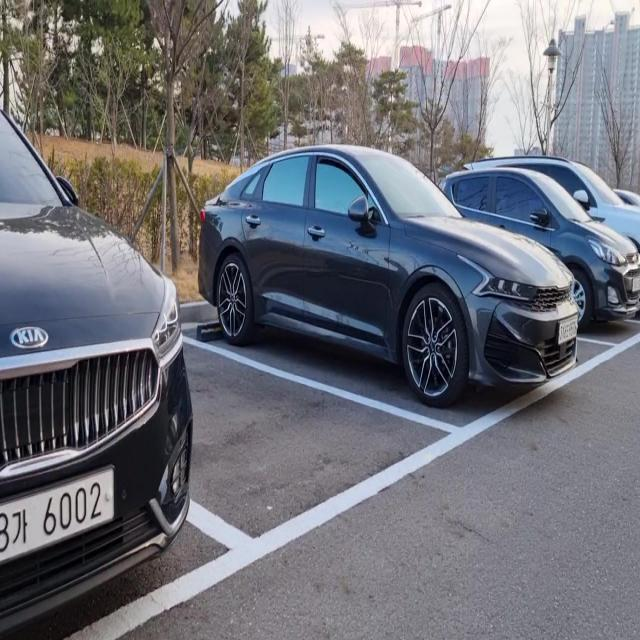empty: (191, 292, 465, 551)
occupied: (192, 154, 582, 434)
